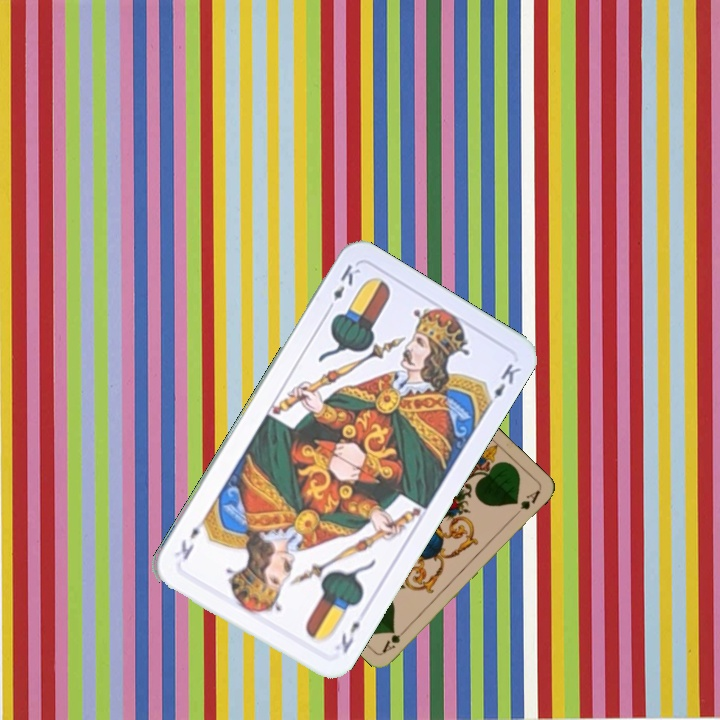EK: (322, 260, 363, 315), (336, 617, 363, 656)
GA: (378, 622, 411, 655)
